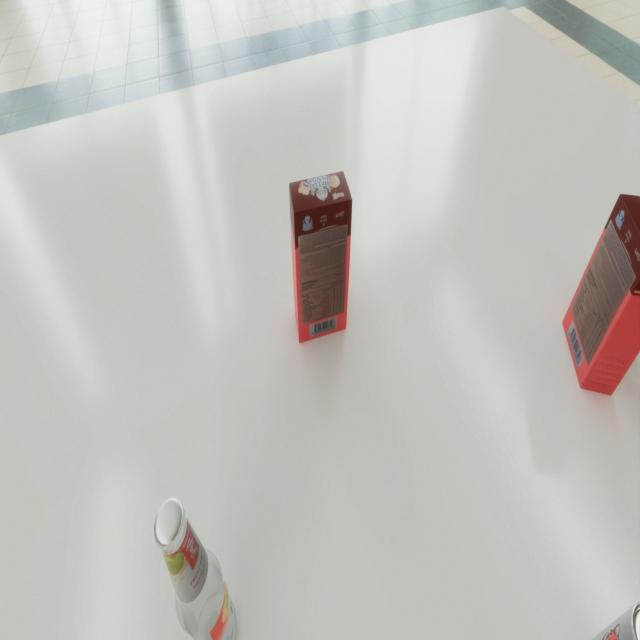Bottle: (154, 498, 238, 640)
HelloPanda: (289, 171, 352, 343)
